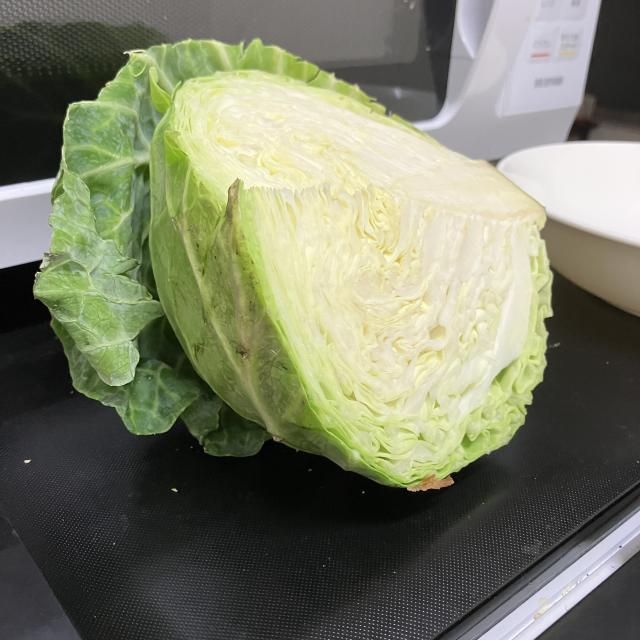cabbage: (29, 34, 556, 500)
